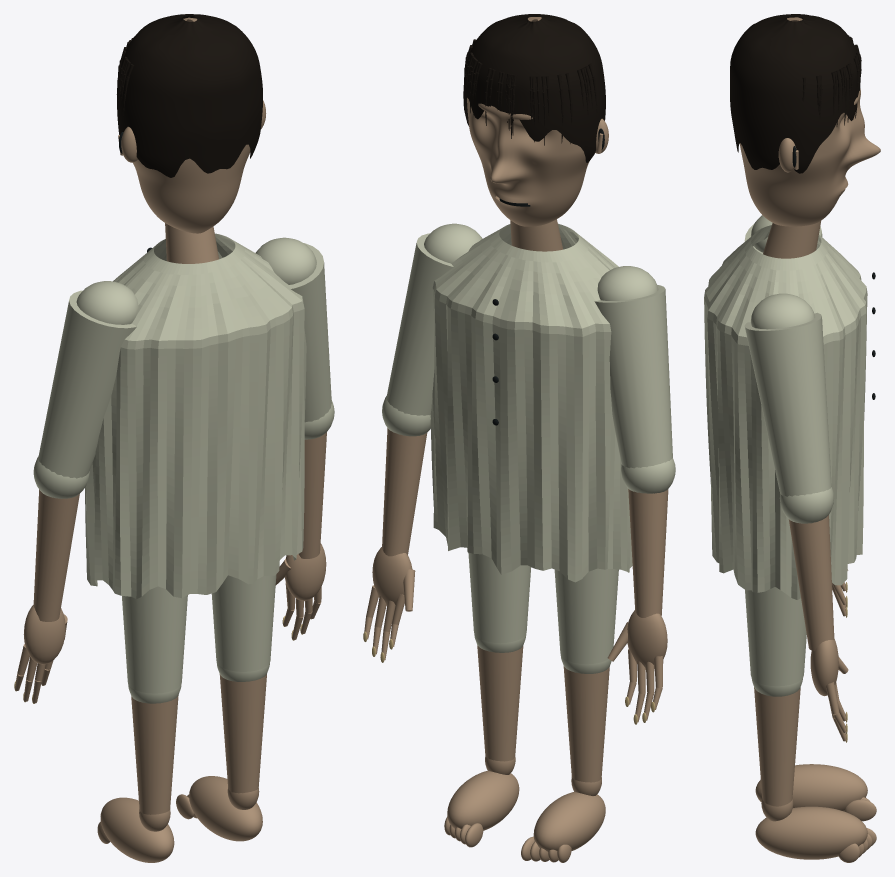
File: Sebastian.obj
The picture shows the model from 3 angles, left to right: view 1: azimuth 30°, elevation 25°; view 2: azimuth 150°, elevation 25°; view 3: azimuth 270°, elevation 25°; orthographic projection. The views are drawn at different scales.
Visible parts, largest first — view 1: Sebastian; view 2: Sebastian; view 3: Sebastian.
Part boxes in pixels (box(x1,y1,x2,y2)): Sebastian: box(14, 14, 334, 862); Sebastian: box(363, 14, 675, 862); Sebastian: box(704, 14, 880, 862).
Size of the model in its own units: 0.582 by 1.52 by 0.2991.
